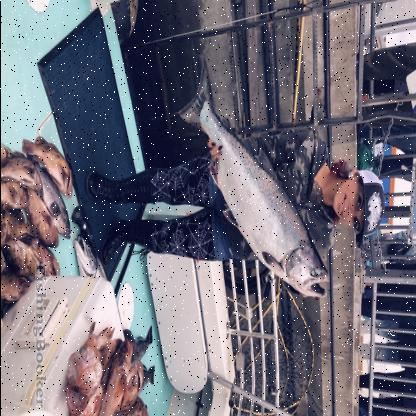fish: (176, 58, 330, 302), (28, 153, 70, 237), (21, 137, 73, 197), (20, 178, 58, 248), (24, 234, 62, 286), (0, 150, 42, 190)
